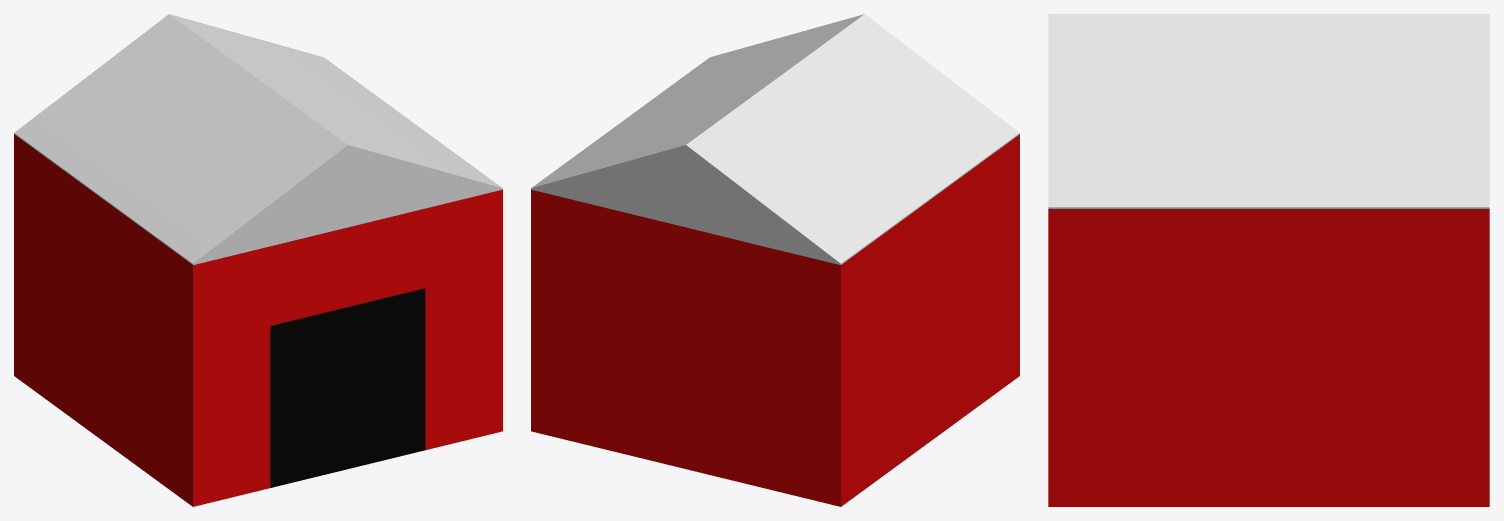
File: doghouse.fbx
3 views of the same model, side by side, from view 1: azimuth 30°, elevation 25°; view 2: azimuth 150°, elevation 25°; view 3: azimuth 270°, elevation 25° (orthographic). The views are drawn at different scales.
Parts seen in each view (by area): view 1: pCube1; view 2: pCube1; view 3: pCube1.
Part boxes in pixels (bbox=[...]): pCube1: bbox=[14, 14, 502, 506]; pCube1: bbox=[531, 14, 1019, 506]; pCube1: bbox=[1048, 14, 1489, 506].
Bounding box in the file's own units: 1 × 1 × 1.
